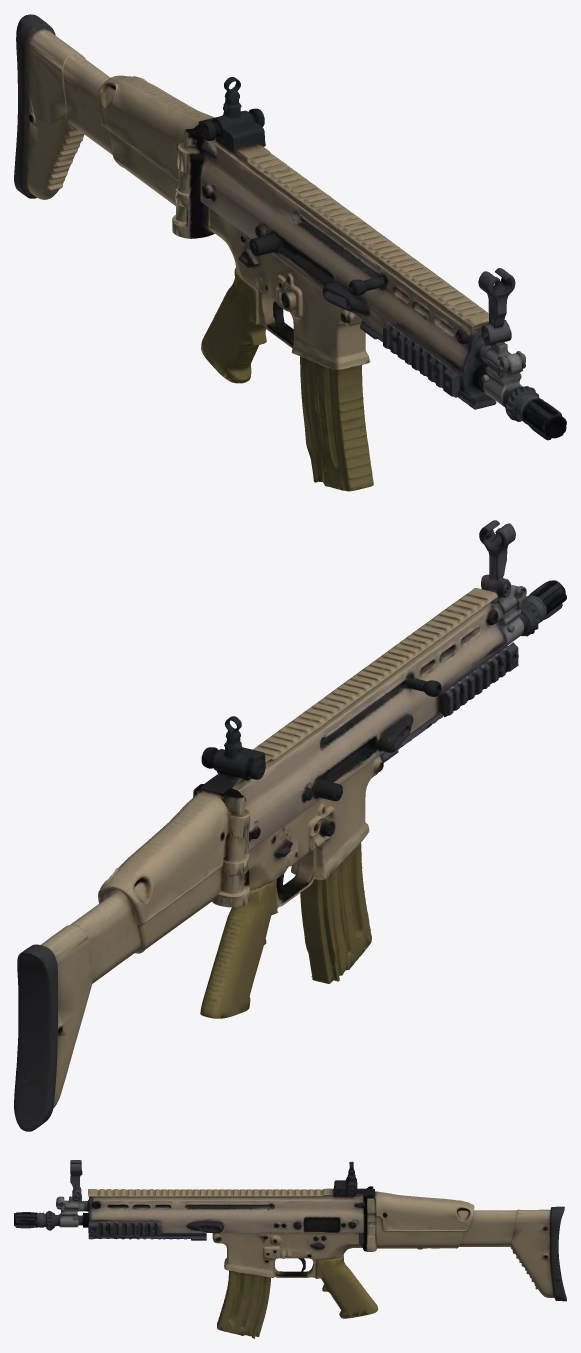
Rendered from Hi3D_Realistic Desert Tan FN SCAR Assault Rifle 3D Model_allparts_20260825_160619-optimized.glb.
The picture shows the model from 3 angles, top to bottom: view 1: azimuth 30°, elevation 25°; view 2: azimuth 150°, elevation 25°; view 3: azimuth 270°, elevation 25°; orthographic projection. The views are drawn at different scales.
Visible parts, largest first — view 1: geometry_0; view 2: geometry_0; view 3: geometry_0.
Boxes of the visible parts, x1=… form: geometry_0: x1=14, y1=14, x2=566, y2=491; geometry_0: x1=14, y1=520, x2=566, y2=1131; geometry_0: x1=14, y1=1160, x2=566, y2=1338.
Bounding box in the file's own units: 0.0859 × 0.3452 × 0.9999.
Materials: 1 (1 with a texture image).
